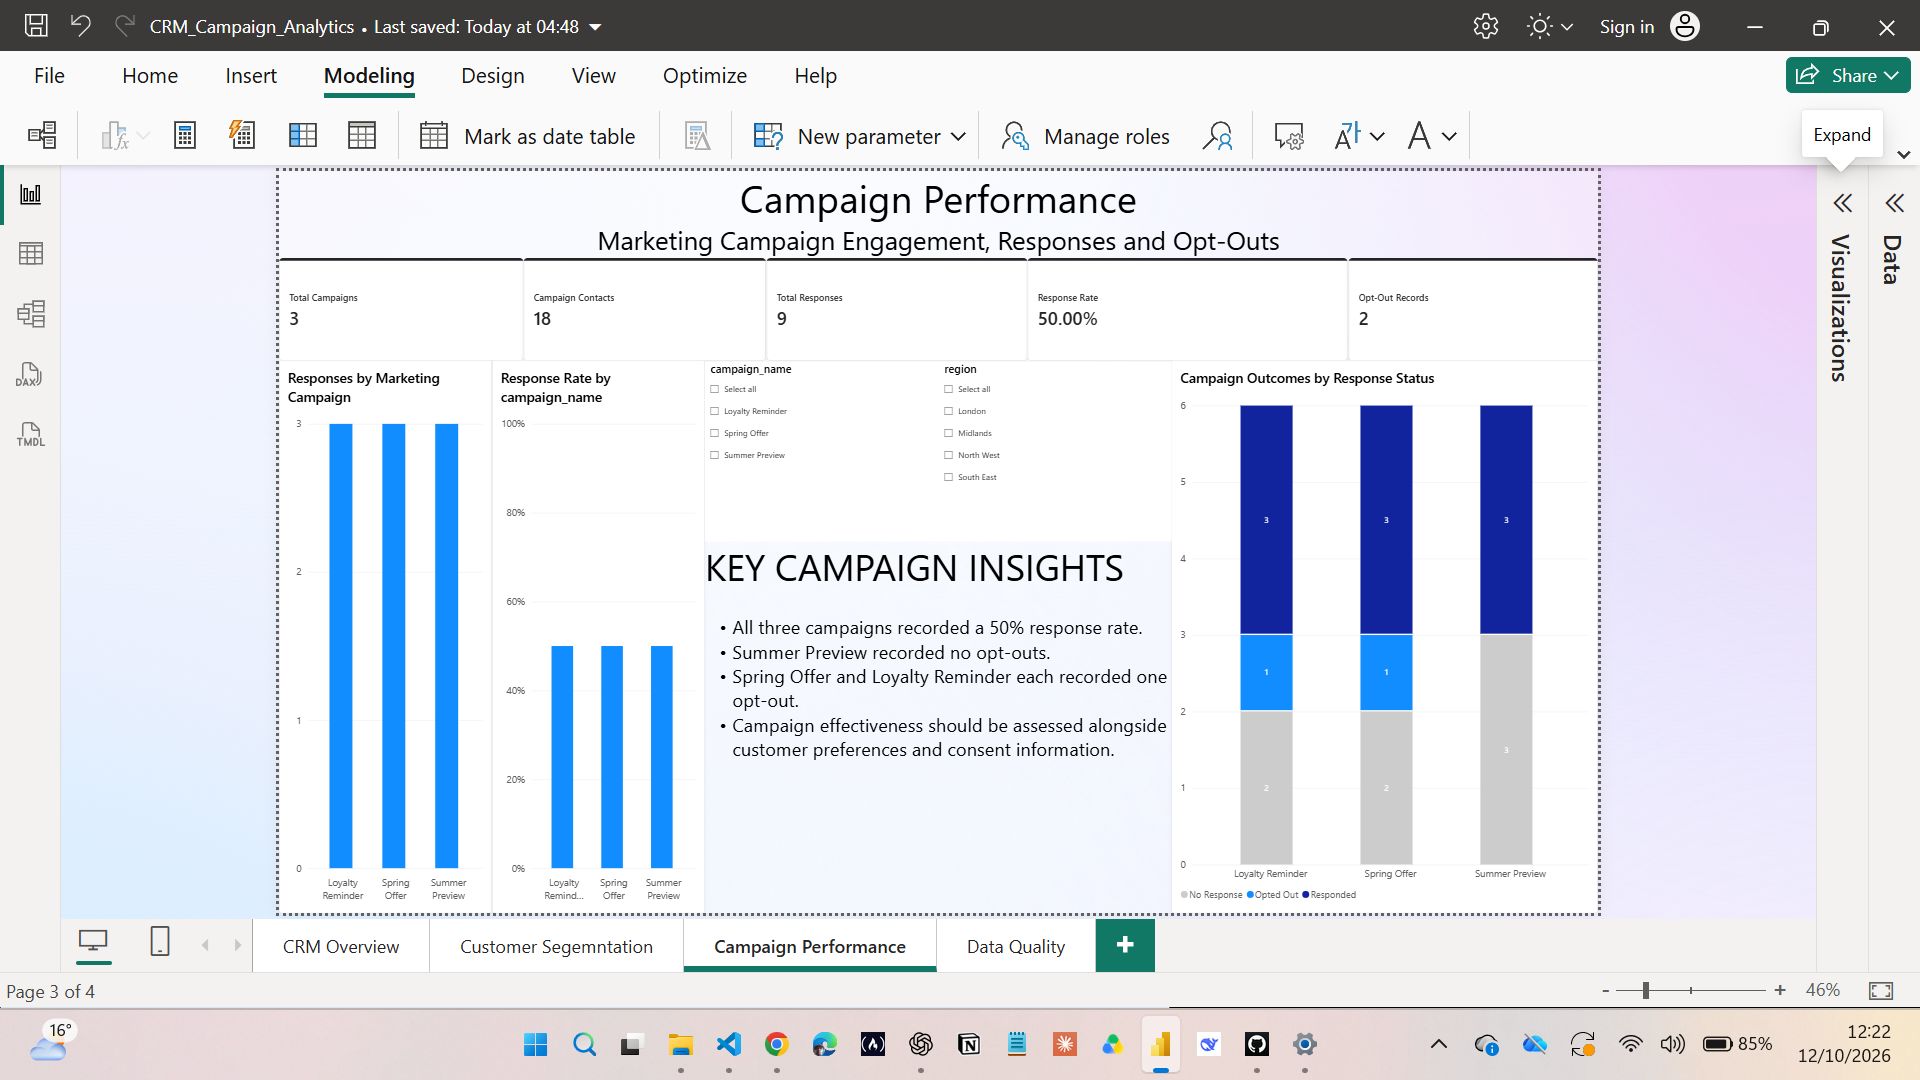

The page's visual inventory and layout, read from the dashboard file:
{"tool":"powerbi","page":{"name":"Campaign Performance","canvas":[1920,1080],"ordinal":2},"visuals":[{"type":"textbox","box":[0,0,1920,128],"z":0},{"type":"cardVisual","fields":{"Data":["campaign_activity.Total Campaigns"]},"box":[0,126.7,356.7,150],"z":1000},{"type":"cardVisual","fields":{"Data":["campaign_activity.Campaign Contacts"]},"box":[356.7,126.7,353.3,150],"z":2000},{"type":"cardVisual","fields":{"Data":["campaign_activity.Total Responses"]},"box":[710,126.7,380,150],"z":3000},{"type":"cardVisual","fields":{"Data":["customers.Response Rate"]},"box":[1090,126.7,466.7,150],"z":4000},{"type":"cardVisual","fields":{"Data":["campaign_activity.Opt-Out Records"]},"box":[1556.7,126.7,363.3,150],"z":5000},{"type":"clusteredColumnChart","title":"Responses by Marketing Campaign","fields":{"Category":["campaign_activity.campaign_name"],"Y":["campaign_activity.Total Responses"]},"box":[0,275,310,805],"z":6000},{"type":"clusteredColumnChart","fields":{"Category":["campaign_activity.campaign_name"],"Y":["customers.Response Rate"]},"box":[310,275,310,805],"z":7000},{"type":"columnChart","title":"Campaign Outcomes by Response Status","fields":{"Category":["campaign_activity.campaign_name"],"Series":["campaign_activity.response_status"],"Y":["CountNonNull(campaign_activity.activity_id)"]},"box":[1300,275,620,805],"z":8000},{"type":"slicer","fields":{"Values":["customers.region"]},"box":[960.7,277.3,338.4,262],"z":8001},{"type":"slicer","fields":{"Values":["campaign_activity.campaign_name"]},"box":[620.1,277.3,340.6,262],"z":8002},{"type":"textbox","box":[620.1,539.3,679,541.5],"z":8003}]}

Visuals, with their boxes on the page's 1920x1080 design canvas (x1, y1, x2, y2). These are canvas units, not pixel positions in the 1920x1080 screenshot, which may show the page scaled, cropped or inside an application window:
textbox: 0, 0, 1920, 128
cardVisual - campaign_activity.Total Campaigns: 0, 127, 357, 277
cardVisual - campaign_activity.Campaign Contacts: 357, 127, 710, 277
cardVisual - campaign_activity.Total Responses: 710, 127, 1090, 277
cardVisual - customers.Response Rate: 1090, 127, 1557, 277
cardVisual - campaign_activity.Opt-Out Records: 1557, 127, 1920, 277
"Responses by Marketing Campaign" clusteredColumnChart: 0, 275, 310, 1080
clusteredColumnChart - campaign_activity.campaign_name x customers.Response Rate: 310, 275, 620, 1080
"Campaign Outcomes by Response Status" columnChart: 1300, 275, 1920, 1080
slicer - customers.region: 961, 277, 1299, 539
slicer - campaign_activity.campaign_name: 620, 277, 961, 539
textbox: 620, 539, 1299, 1081
